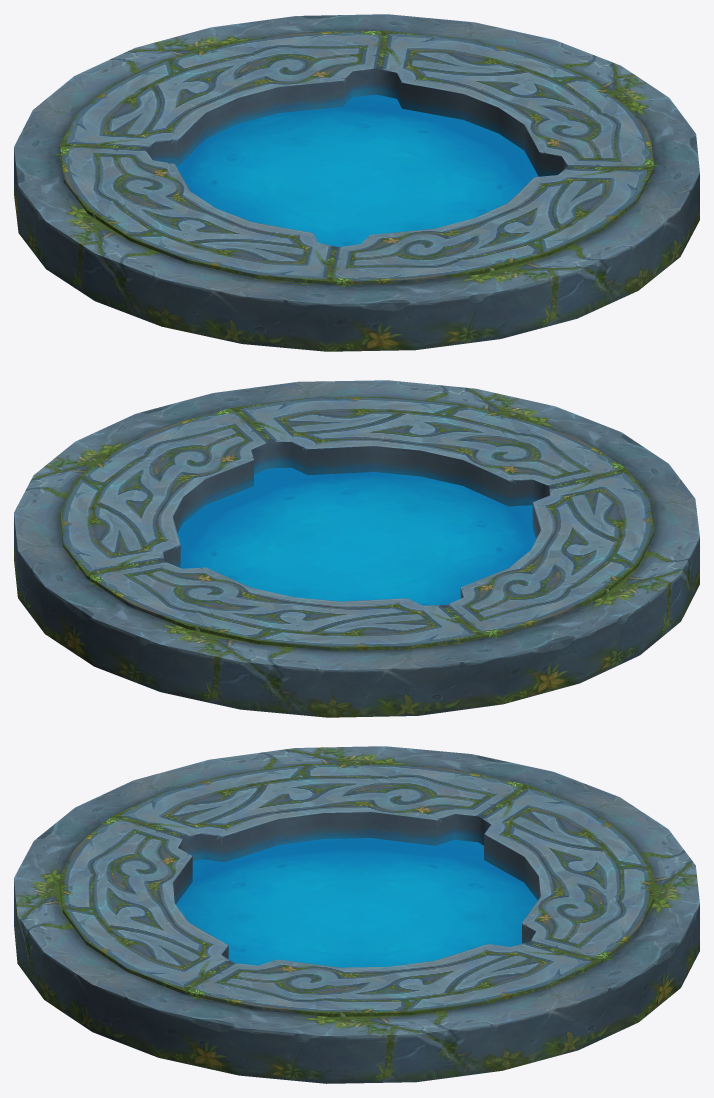
The model's file is fb_tys_zj_03_c.FBX.
3 views of the same model, one above another, from view 1: azimuth 30°, elevation 25°; view 2: azimuth 150°, elevation 25°; view 3: azimuth 270°, elevation 25° (orthographic).
Parts seen in each view (by area): view 1: fb_tys_zj_03_c; view 2: fb_tys_zj_03_c; view 3: fb_tys_zj_03_c.
Part boxes in pixels (x1=…): fb_tys_zj_03_c: x1=14, y1=14, x2=699, y2=351; fb_tys_zj_03_c: x1=14, y1=380, x2=699, y2=717; fb_tys_zj_03_c: x1=14, y1=746, x2=699, y2=1083.
Size of the model in its own units: 1056 by 86 by 1056.
